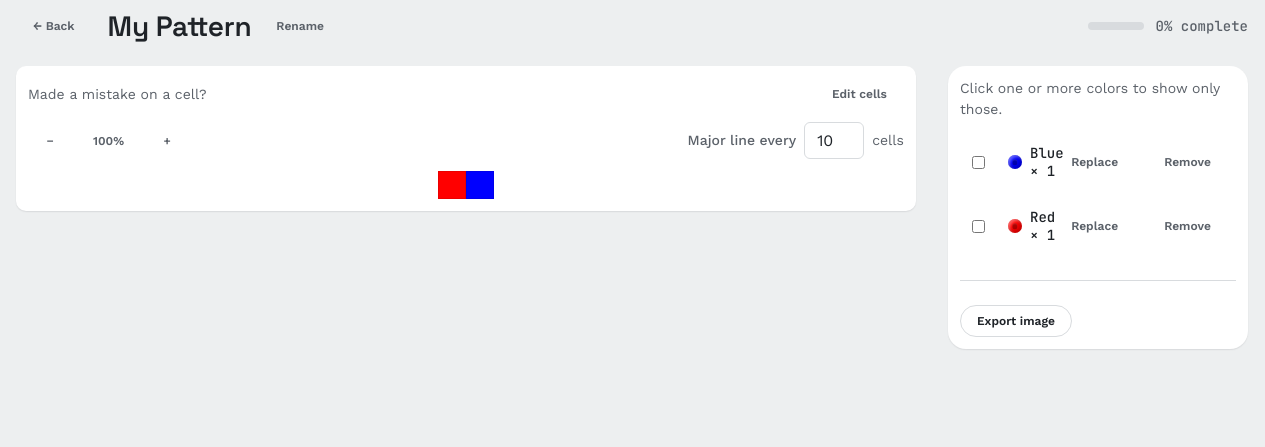
Test: WorkingView › replaces a color throughout the pattern when a similar option is chosen
expect the button "Red × 1" is shown: met, box [1000, 204, 1042, 248]
What coordinates should you click on to do the following:
click the button with aria-label "replace red"
I would click on:
 (1095, 226)
Its box is [1054, 210, 1135, 242].
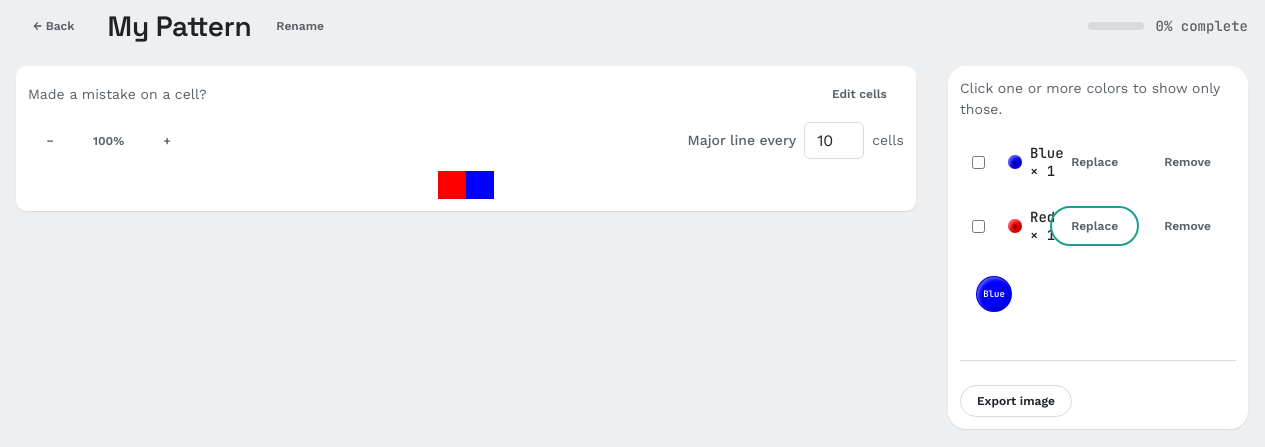
What coordinates should you click on to do the following:
click the button with aria-label "replace with blue"
I would click on:
 (994, 294)
Its box is [976, 276, 1012, 312].
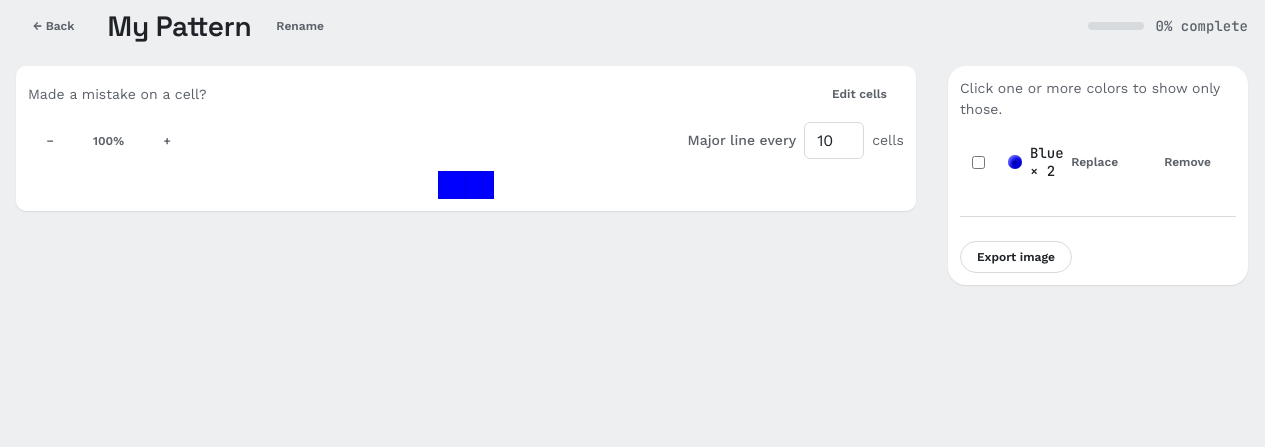
expect the button "Blue × 2" is shown: met, box [1000, 140, 1042, 184]
expect the element named "cell 0-0, color Blue" is shown: met, box [438, 171, 466, 199]
expect the button "Red ×" is gone: met
